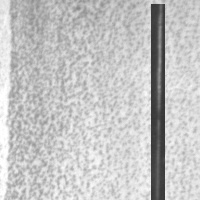pitted_surface: (10, 1, 200, 198)
scratches: (151, 4, 165, 200)
